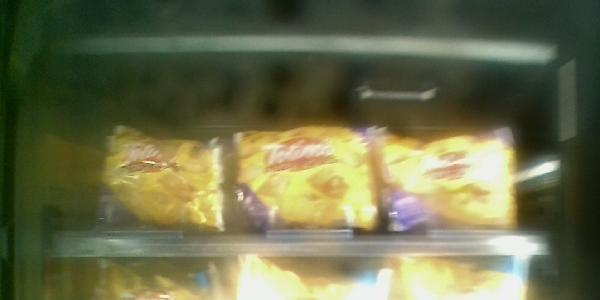icecream: (377, 115, 537, 243), (232, 117, 380, 239), (102, 118, 227, 239)
